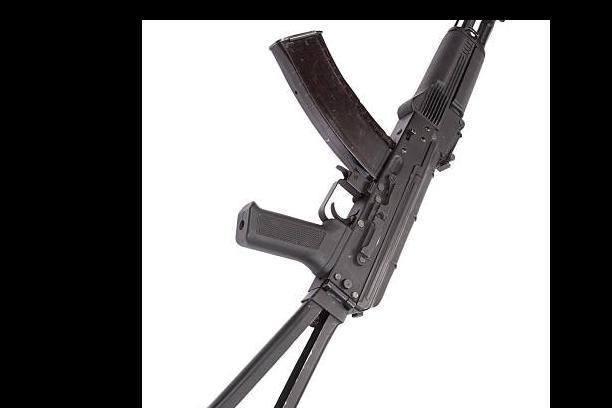larga: (207, 21, 509, 408)
